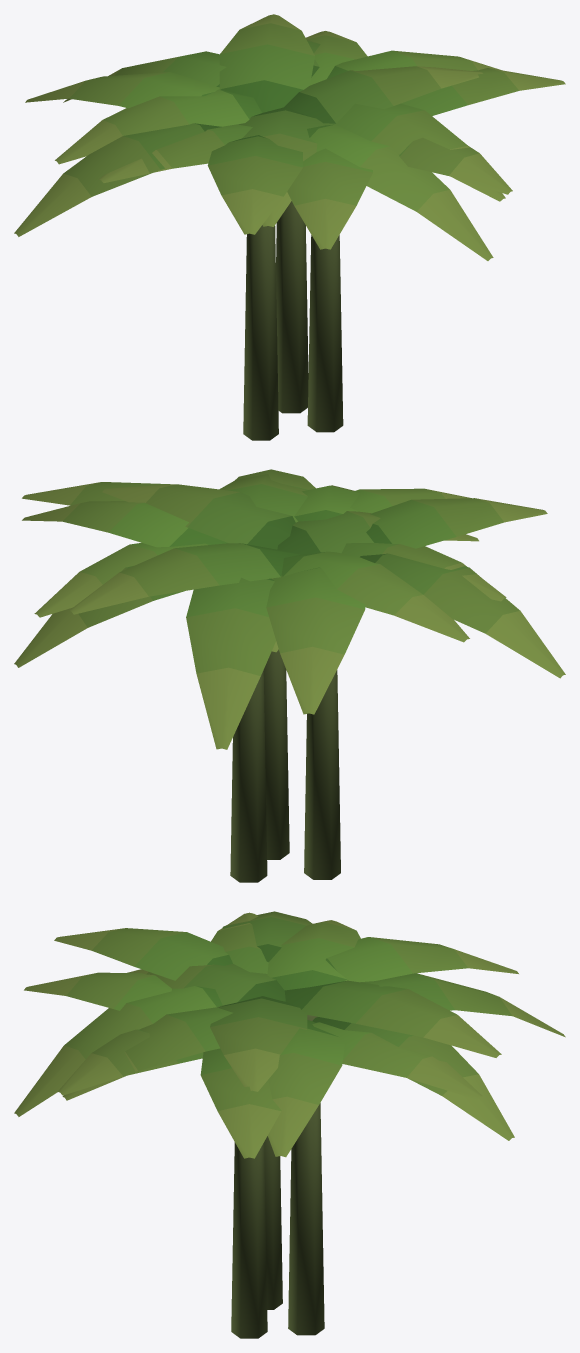
Rendered from env_banana.glb.
3 views of the same model, one above another, from view 1: azimuth 30°, elevation 25°; view 2: azimuth 150°, elevation 25°; view 3: azimuth 270°, elevation 25° (orthographic). The views are drawn at different scales.
Parts seen in each view (by area): view 1: env_banana; view 2: env_banana; view 3: env_banana.
Part boxes in pixels (x1,y1,x2,y2): env_banana: (14,14,565,440); env_banana: (14,469,565,882); env_banana: (14,911,565,1338).
Size of the model in its own units: 5.53 by 3.29 by 4.84.
